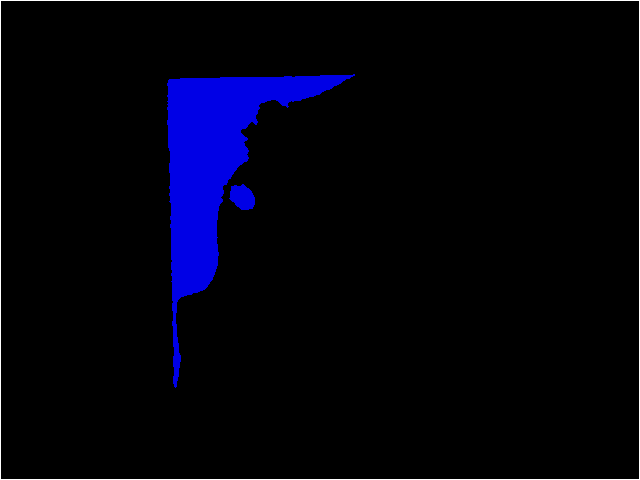defect: (166, 74, 358, 389), (229, 184, 256, 211)
